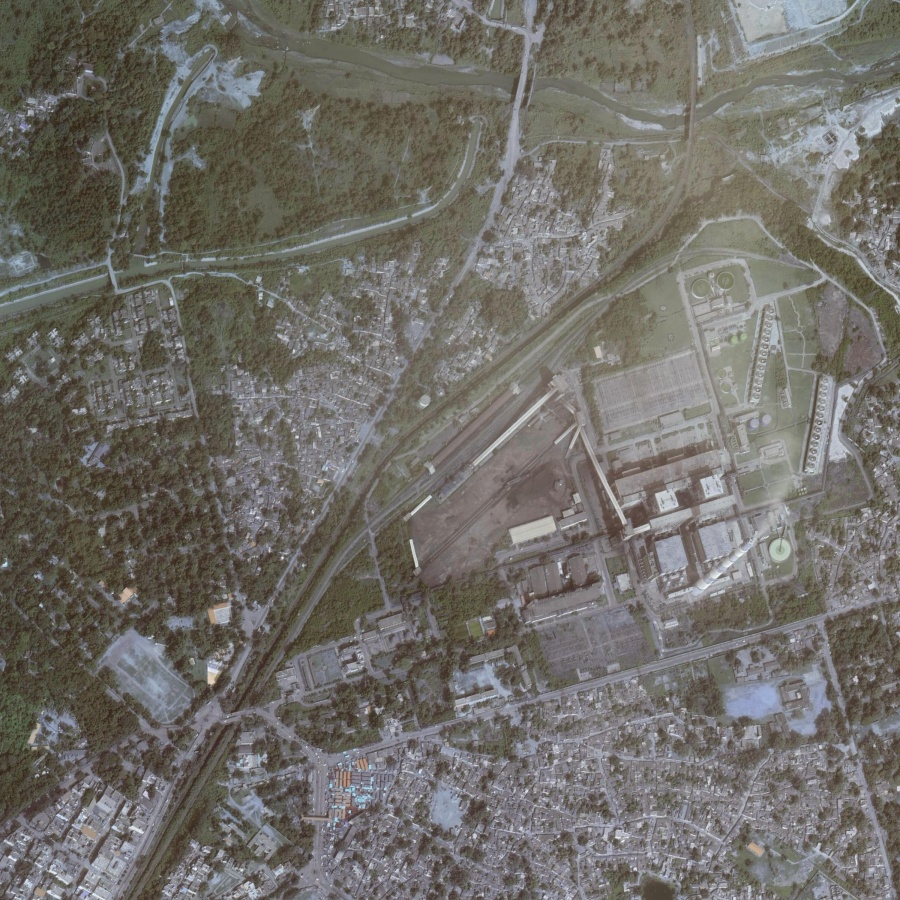PowerPlant: (406, 265, 848, 619)
